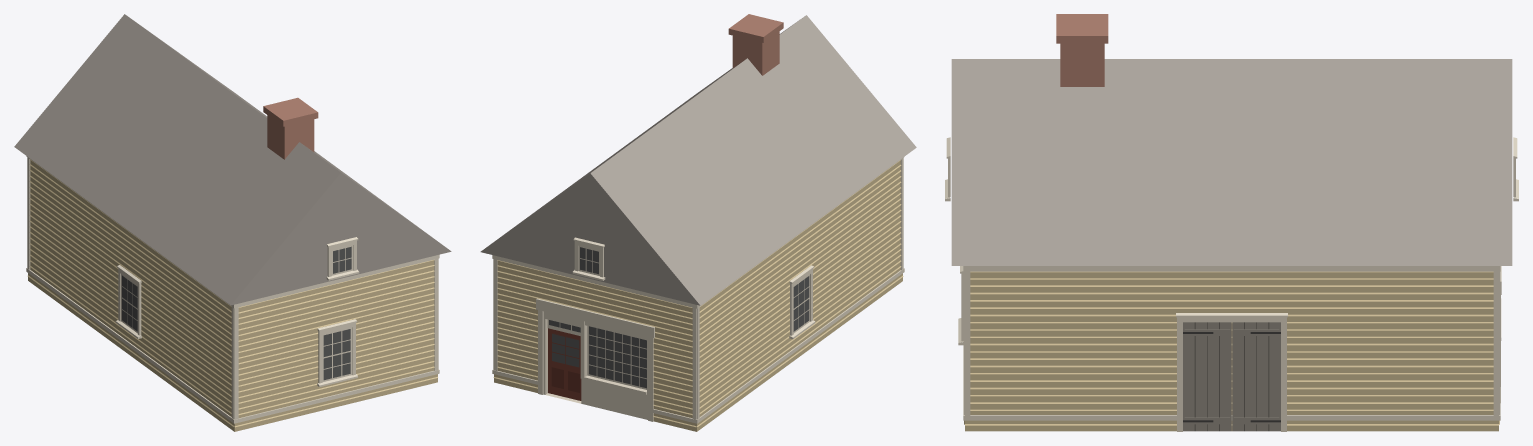
Rendered from recon_1835_core_c2_031__inferred_1835.glb.
The picture shows the model from 3 angles, left to right: view 1: azimuth 30°, elevation 25°; view 2: azimuth 150°, elevation 25°; view 3: azimuth 270°, elevation 25°; orthographic projection. The views are drawn at different scales.
Visible parts, largest first — view 1: recon_1835_core_c2_031__inferred_1835; view 2: recon_1835_core_c2_031__inferred_1835; view 3: recon_1835_core_c2_031__inferred_1835.
Part boxes in pixels (x1,y1,x2,y2): recon_1835_core_c2_031__inferred_1835: [14, 14, 451, 431]; recon_1835_core_c2_031__inferred_1835: [480, 14, 916, 431]; recon_1835_core_c2_031__inferred_1835: [945, 14, 1518, 431].
Size of the model in its own units: 6.23 by 7.13 by 10.82.
